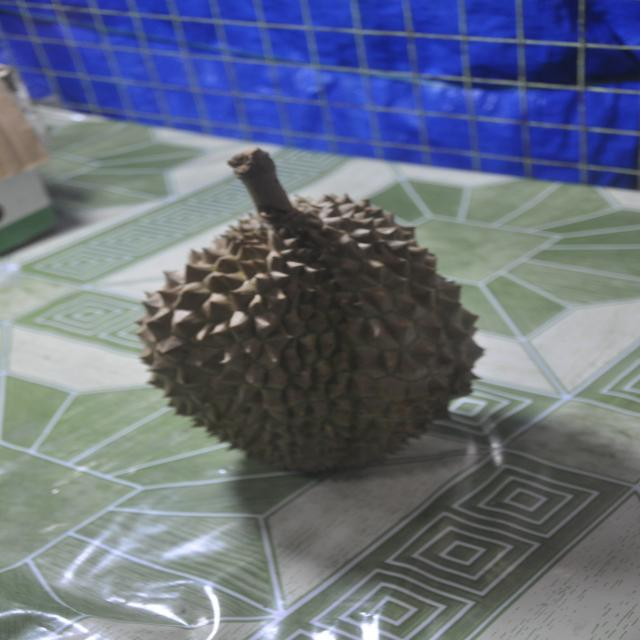mature: (138, 149, 482, 472)
